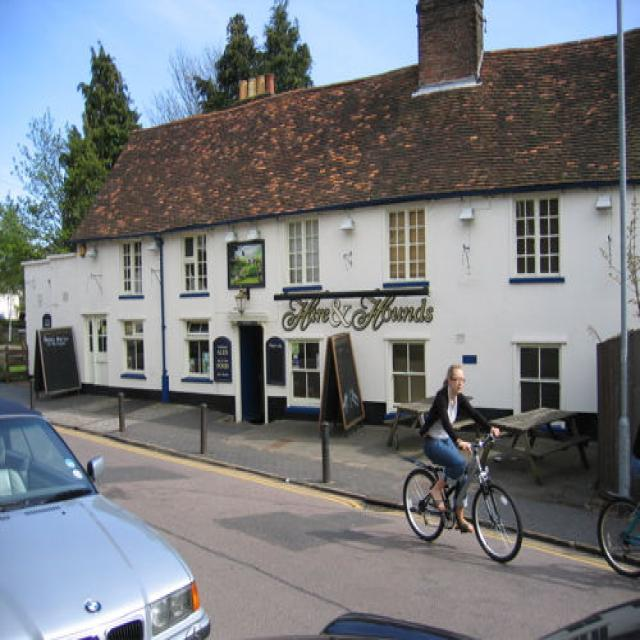light_vehicle: (0, 400, 211, 638), (315, 596, 639, 638)
